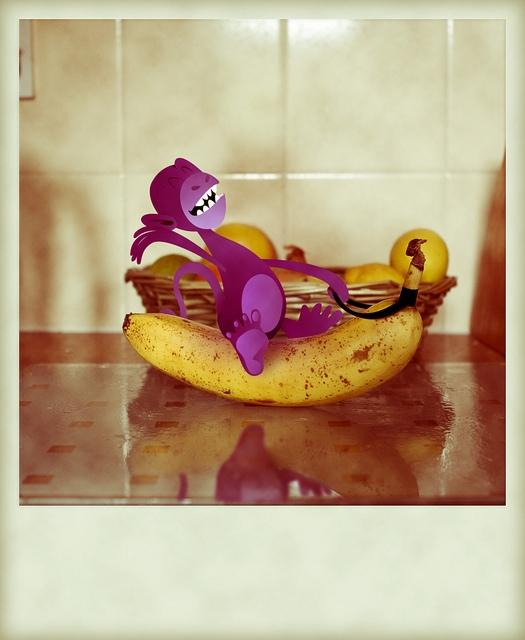banana: (122, 238, 428, 408), (126, 403, 419, 498)
